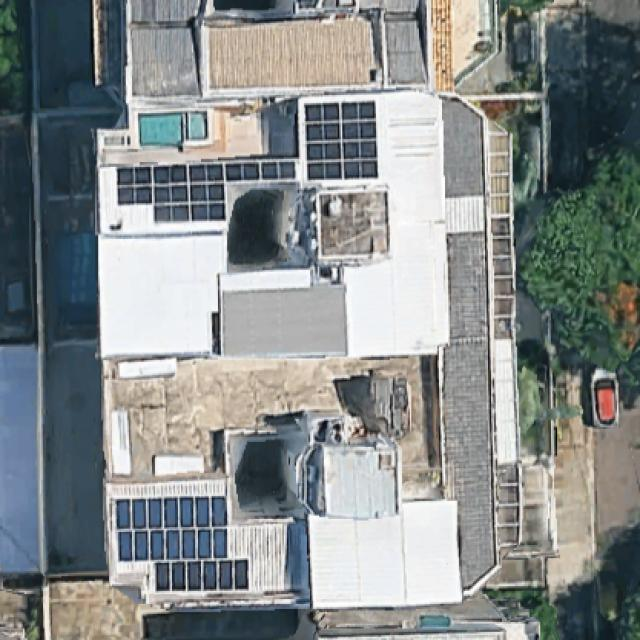painel: (115, 493, 251, 599), (117, 161, 296, 222), (303, 100, 379, 181)
